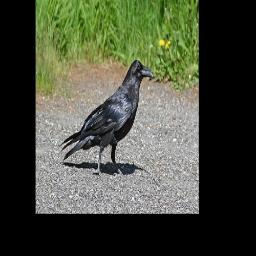Crow: (57, 59, 153, 181)
